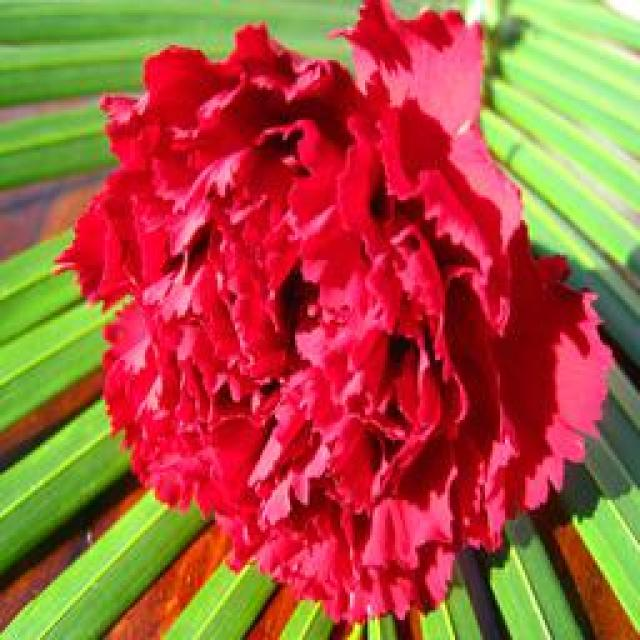carnation: (65, 25, 608, 601)
